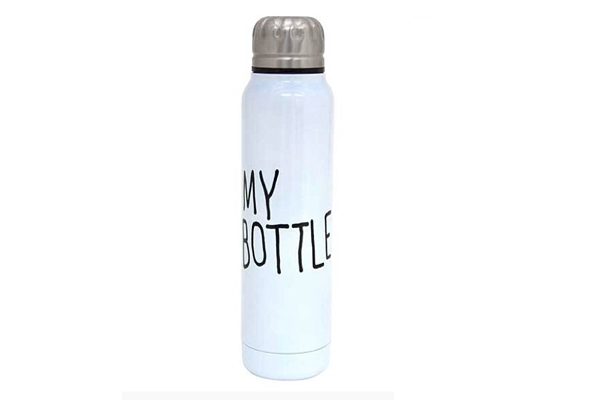Tumbler: (224, 9, 349, 386)
